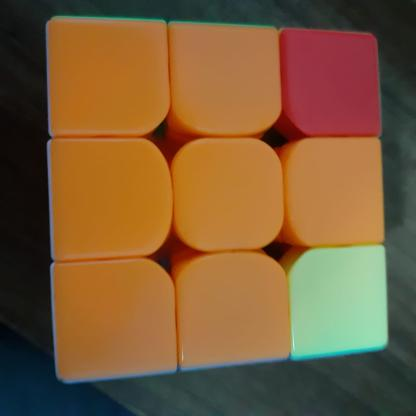cube: (40, 13, 394, 388)
